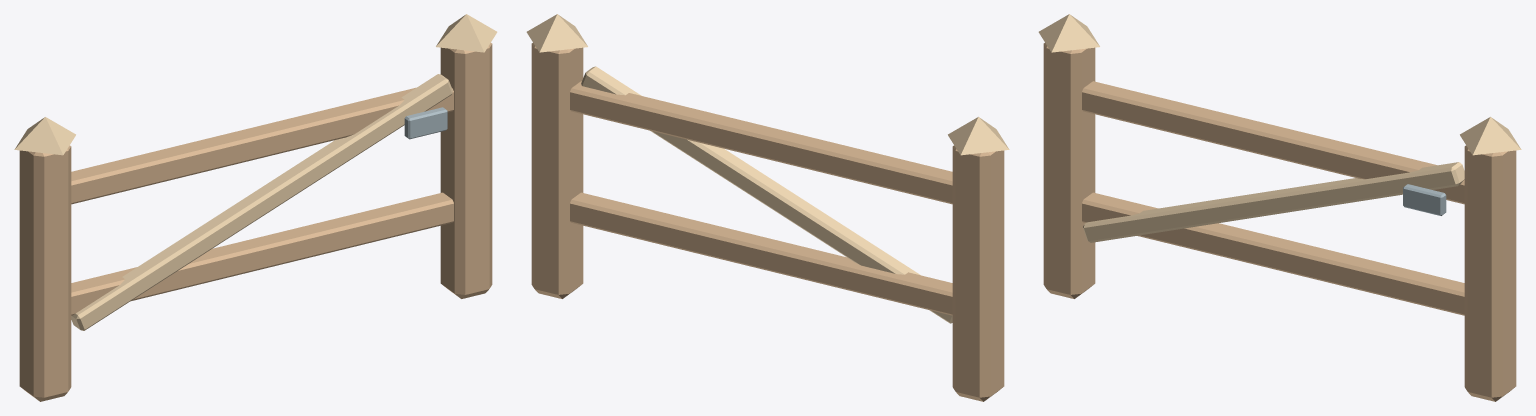
Rendered from gate.fbx.
The picture shows the model from 3 angles, left to right: view 1: azimuth 30°, elevation 25°; view 2: azimuth 150°, elevation 25°; view 3: azimuth 330°, elevation 25°; orthographic projection.
Parts seen in each view (by area): view 1: gate_mesh; view 2: gate_mesh; view 3: gate_mesh.
Boxes of the visible parts, left/top/right/bottom form: gate_mesh: left=14, top=14, right=497, bottom=401; gate_mesh: left=526, top=14, right=1009, bottom=401; gate_mesh: left=1038, top=14, right=1521, bottom=401.
Size of the model in its own units: 2.18 by 1.19 by 0.28.
